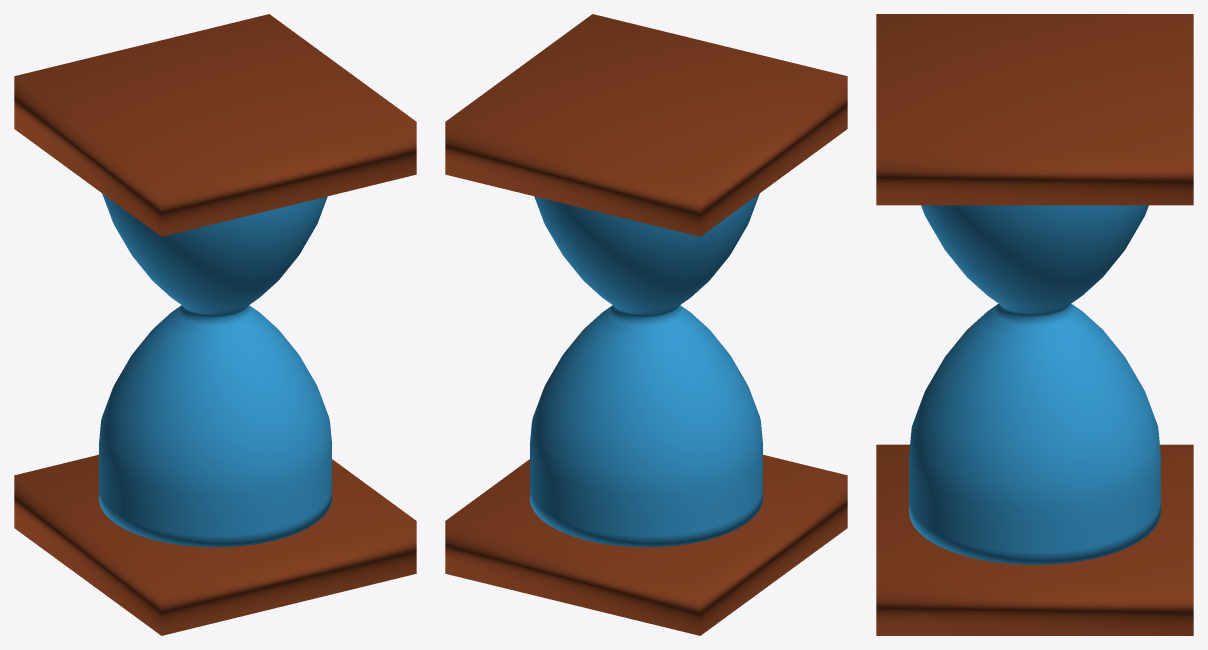
File: clock.fbx
3 renders of one model, left to right at view 1: azimuth 30°, elevation 25°; view 2: azimuth 150°, elevation 25°; view 3: azimuth 270°, elevation 25°, orthographic. The views are drawn at different scales.
Visible parts, largest first — view 1: Cube; view 2: Cube; view 3: Cube.
Boxes of the visible parts, x1,y1,x2,y2 form: Cube: [14, 14, 416, 635]; Cube: [445, 14, 847, 635]; Cube: [876, 14, 1193, 635].
Size of the model in its own units: 200 by 339 by 200.
